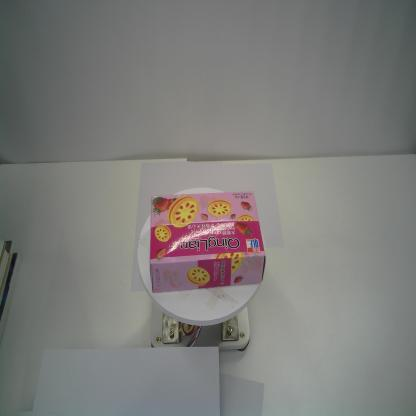Dessert: (149, 190, 266, 294)
